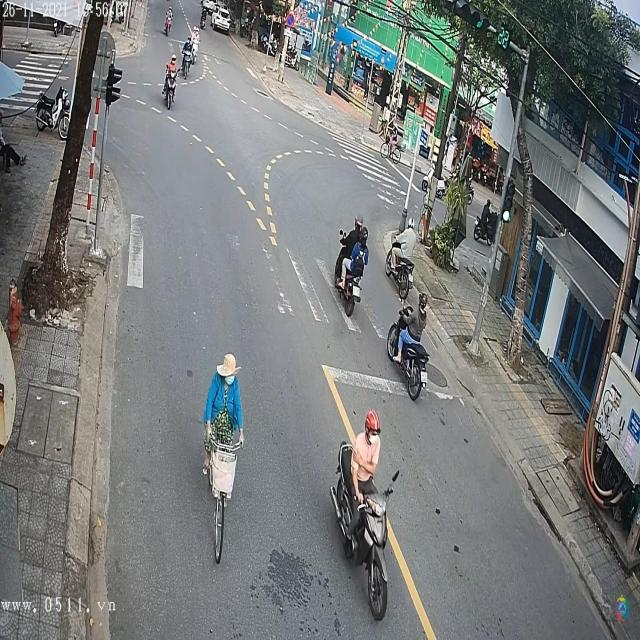motorcycle: (332, 434, 399, 622), (387, 302, 428, 407), (332, 221, 364, 316), (383, 224, 414, 303), (163, 58, 178, 110), (180, 42, 193, 82), (428, 406, 429, 406)
